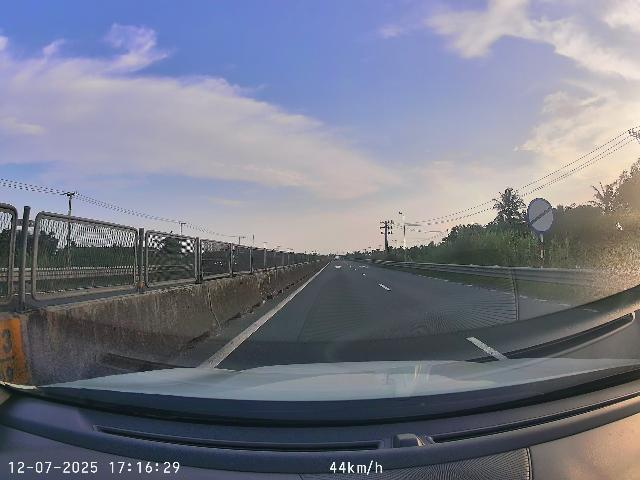135-het-tat-ca-cac-lenh-cam: (526, 198, 555, 233)
